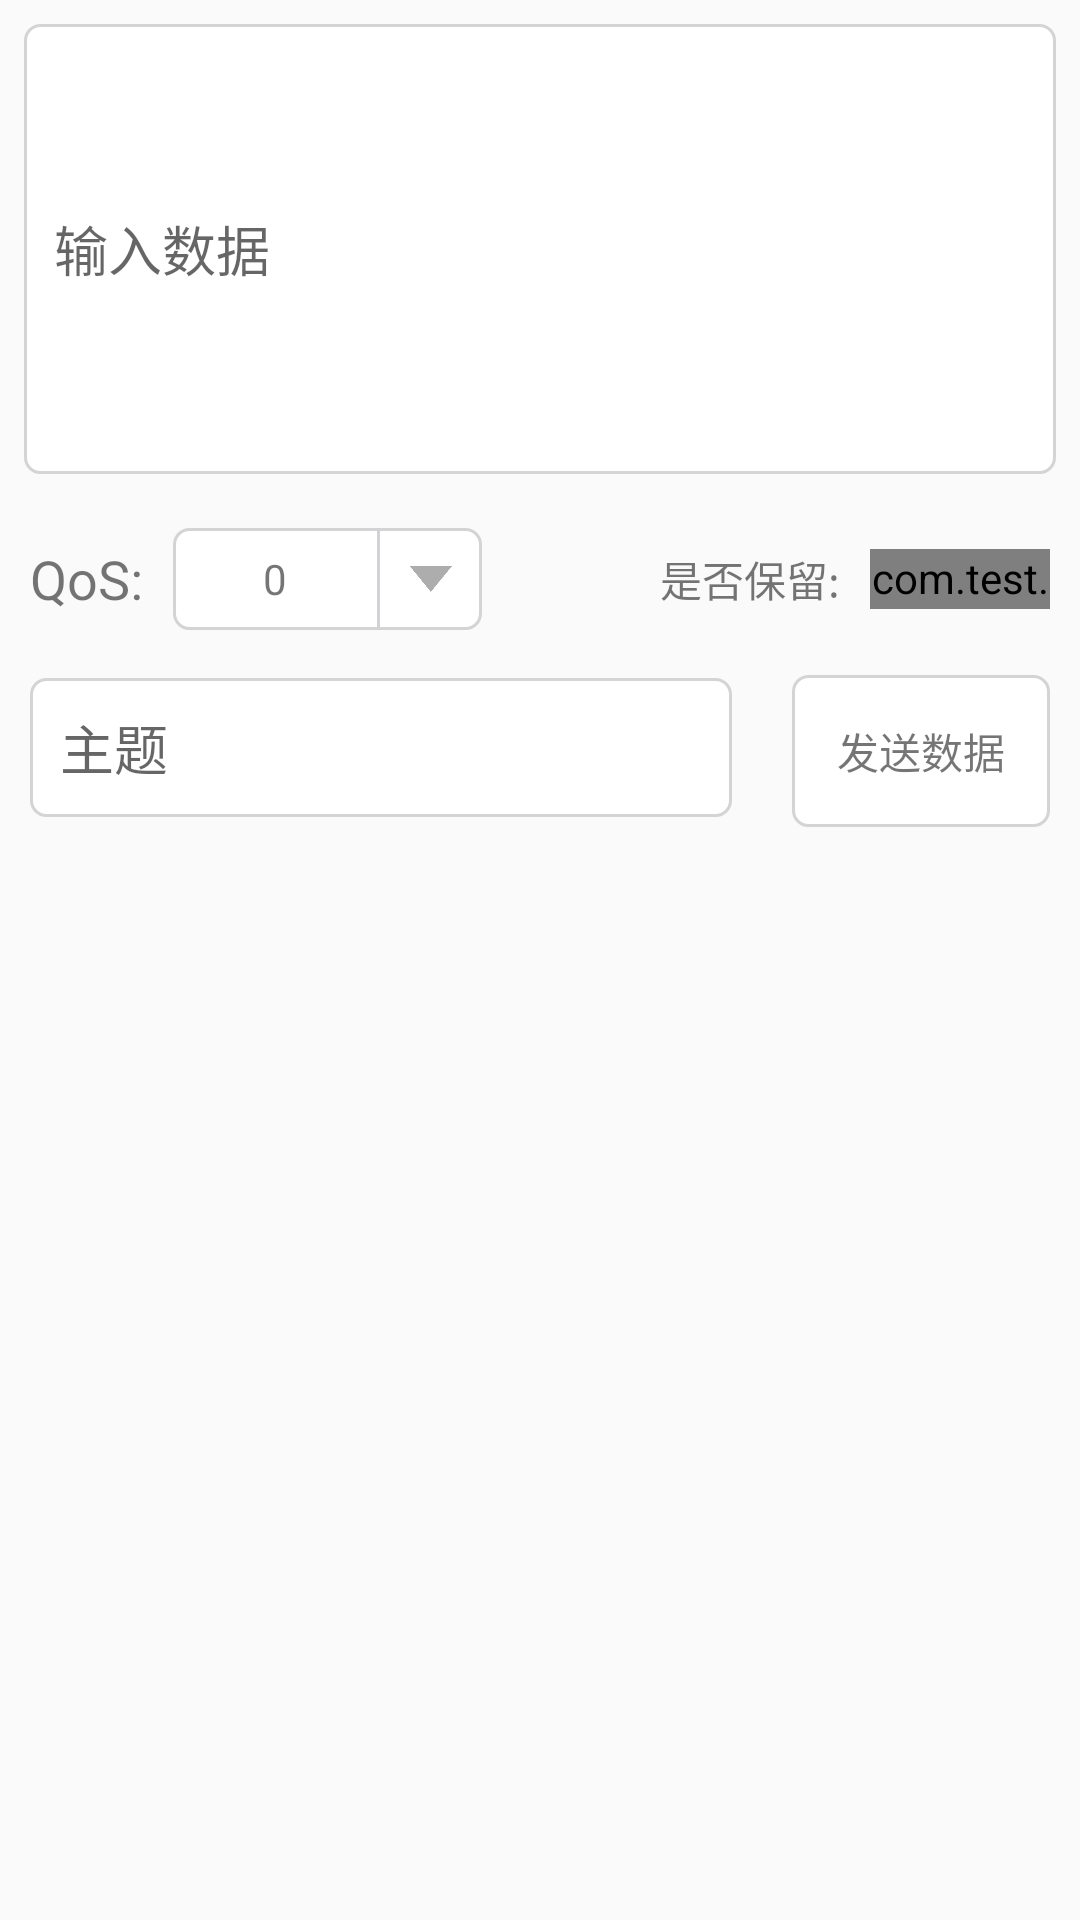

Named icons in this screenshot (1080px×1920px) and their bounding boxes, (x1, y1, x2, y2):
pull down: (380, 528, 482, 630)
